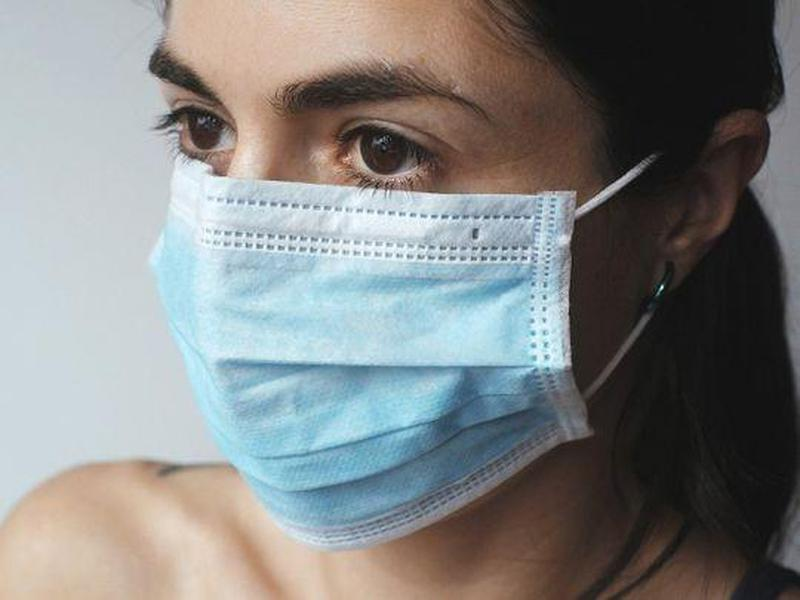with_mask: (140, 1, 774, 546)
